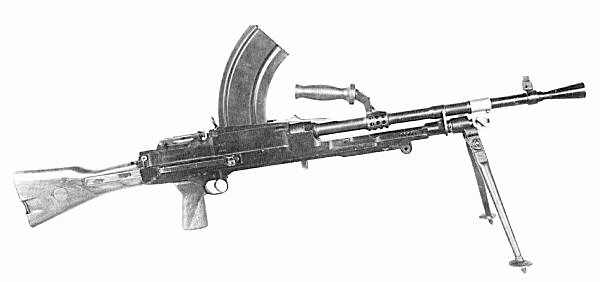rifle: (16, 23, 591, 262)
